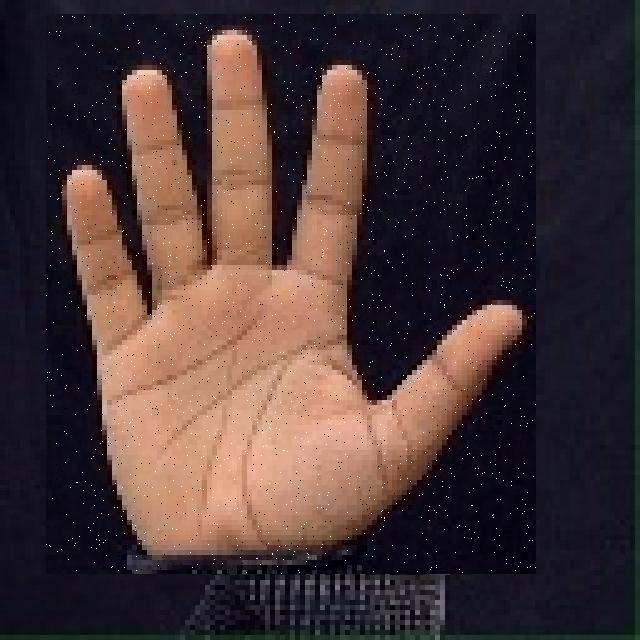Yes: (46, 14, 536, 574)
